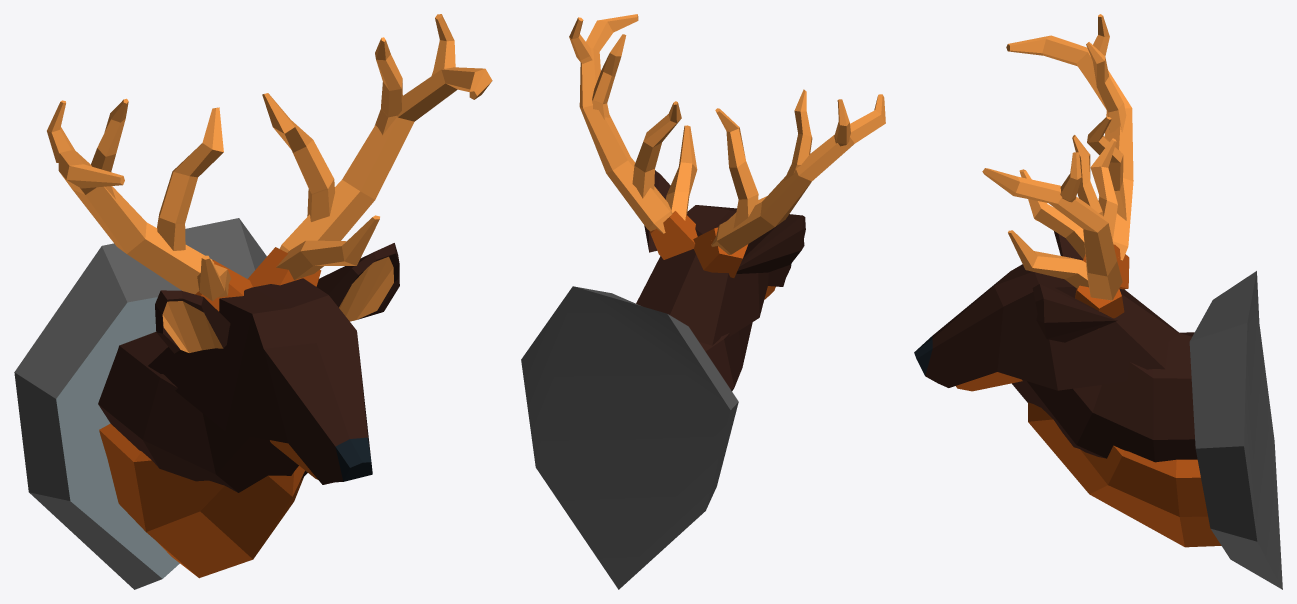
The model's file is testa ak.fbx.
3 views of the same model, side by side, from view 1: azimuth 30°, elevation 25°; view 2: azimuth 150°, elevation 25°; view 3: azimuth 270°, elevation 25° (orthographic). The views are drawn at different scales.
Visible parts, largest first — view 1: Object001; view 2: Object001; view 3: Object001.
Boxes of the visible parts, bbox=[...] form: Object001: bbox=[14, 14, 492, 589]; Object001: bbox=[521, 14, 885, 589]; Object001: bbox=[914, 14, 1282, 589].
Bounding box in the file's own units: 133 × 196 × 129.
